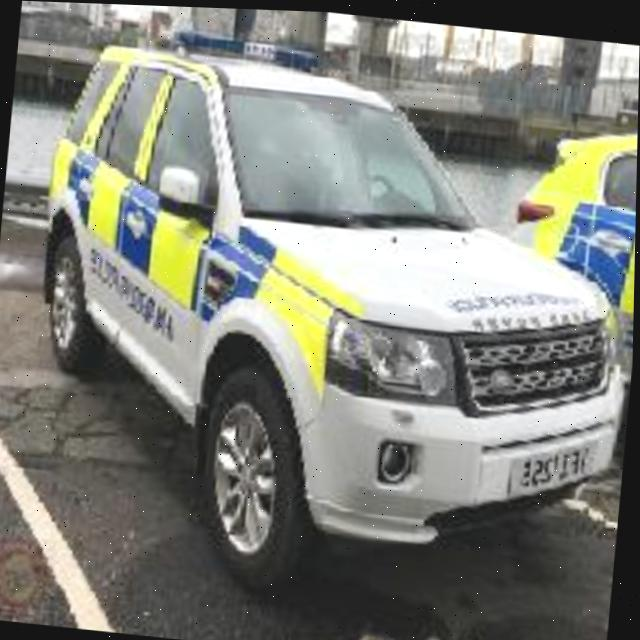emergency: (28, 20, 640, 584)
